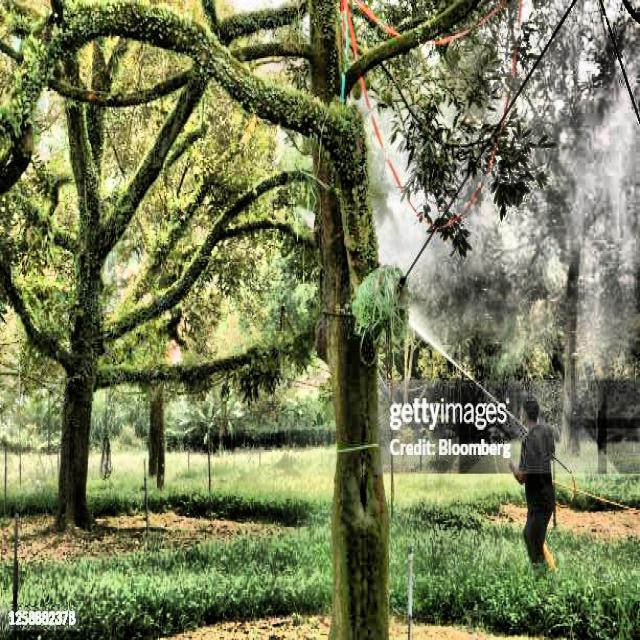arvore: (298, 111, 409, 640), (56, 154, 102, 534), (136, 333, 172, 507)
